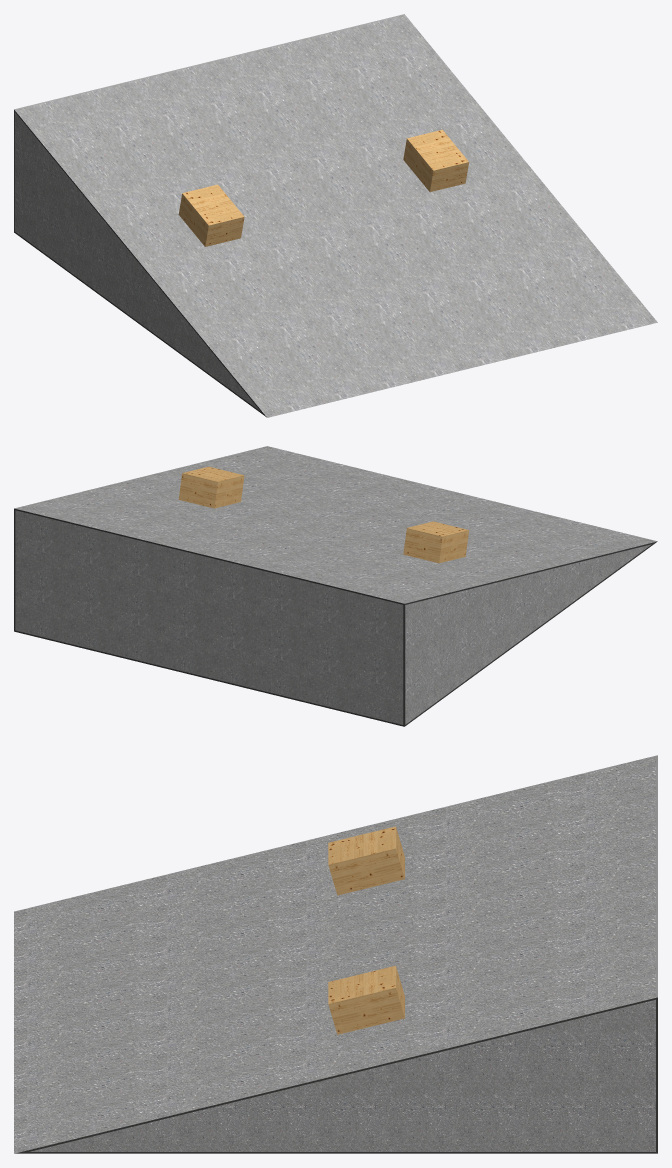
File: tanghuangX.gltf
3 renders of one model, top to bottom at view 1: azimuth 30°, elevation 25°; view 2: azimuth 150°, elevation 25°; view 3: azimuth 270°, elevation 25°, orthographic. The views are drawn at different scales.
Parts seen in each view (by area): view 1: 对象020; view 2: 对象020; view 3: 对象020.
Part boxes in pixels (x1,y1,x2,y2): 对象020: (14,14,657,417); 对象020: (14,446,657,726); 对象020: (14,755,657,1153).
Size of the model in its own units: 164 by 49.34 by 184.
Materials: 3 (3 with a texture image).
